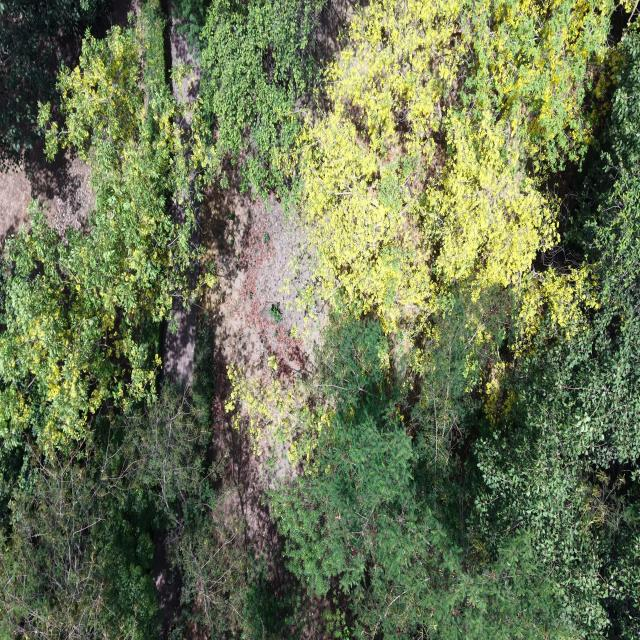DRY_AREA: (163, 166, 323, 589), (164, 170, 325, 589), (164, 168, 324, 582), (164, 166, 323, 580), (163, 167, 317, 583), (165, 181, 322, 581), (199, 167, 326, 590), (200, 171, 325, 591), (201, 168, 326, 552), (201, 185, 324, 430), (200, 166, 324, 381), (194, 167, 316, 377), (202, 182, 321, 379), (205, 186, 304, 374), (219, 187, 304, 374), (0, 142, 94, 250), (0, 145, 94, 252), (0, 150, 94, 247), (0, 149, 93, 247), (26, 152, 94, 234), (163, 0, 199, 101), (314, 0, 364, 66), (161, 298, 198, 386), (162, 299, 199, 385), (170, 18, 200, 101), (0, 168, 31, 246), (110, 0, 142, 27)
VEGETATION_TREE: (0, 0, 639, 639), (272, 3, 639, 637), (0, 3, 283, 637), (0, 6, 217, 637), (300, 0, 613, 332), (474, 30, 639, 637), (271, 320, 570, 638), (0, 25, 197, 451), (0, 368, 248, 638), (174, 0, 322, 200), (199, 0, 321, 198), (0, 0, 108, 170), (172, 0, 210, 58)
